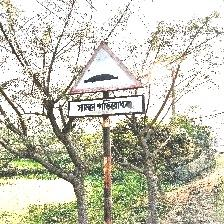Speed-breaker: (67, 41, 146, 118)
